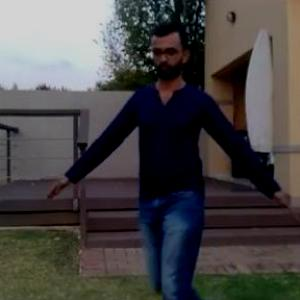land: (78, 32, 298, 299)
